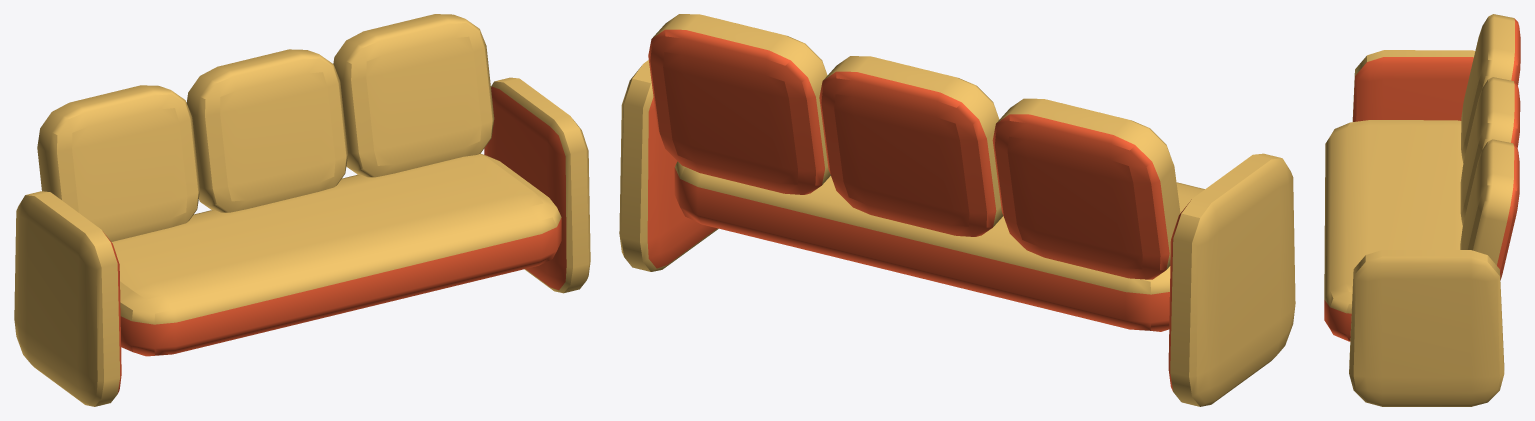
File: SM_Y_03_Sofa_01.fbx
3 views of the same model, side by side, from view 1: azimuth 30°, elevation 25°; view 2: azimuth 150°, elevation 25°; view 3: azimuth 270°, elevation 25° (orthographic). The views are drawn at different scales.
Visible parts, largest first — view 1: SM_Y_03_Sofa_01; view 2: SM_Y_03_Sofa_01; view 3: SM_Y_03_Sofa_01.
Part boxes in pixels (x1,y1,x2,y2): SM_Y_03_Sofa_01: (14, 14, 590, 406); SM_Y_03_Sofa_01: (619, 14, 1295, 406); SM_Y_03_Sofa_01: (1324, 14, 1520, 406).
Bounding box in the file's own units: 261 × 118 × 101.
